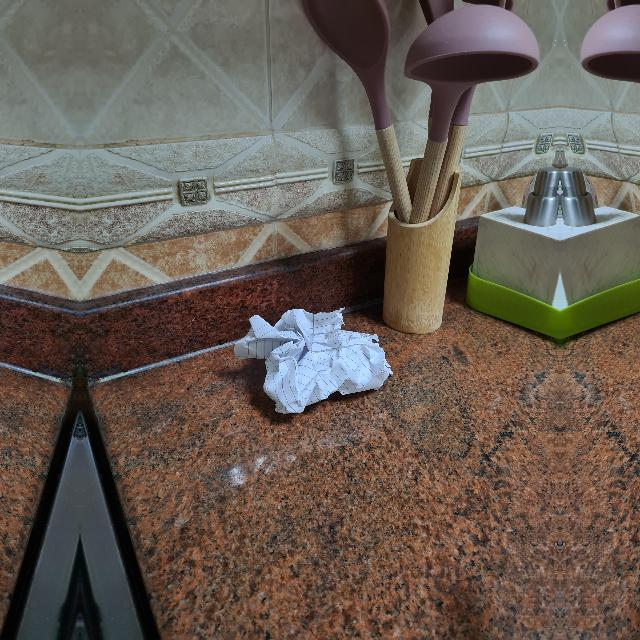paper: (236, 297, 400, 421)
